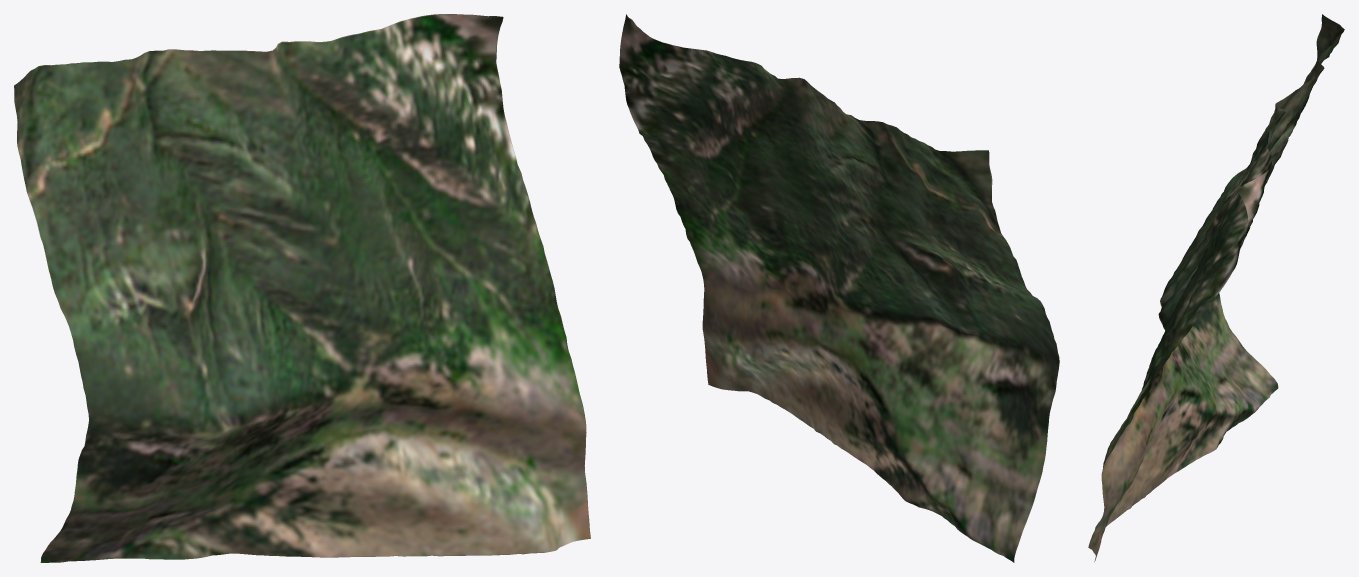
File: ground_far_03_01.obj
3 renders of one model, left to right at view 1: azimuth 30°, elevation 25°; view 2: azimuth 150°, elevation 25°; view 3: azimuth 270°, elevation 25°, orthographic. The views are drawn at different scales.
Parts seen in each view (by area): view 1: ground_far_03_01; view 2: ground_far_03_01; view 3: ground_far_03_01.
Part boxes in pixels (x1,y1,x2,y2): ground_far_03_01: [14, 14, 590, 562]; ground_far_03_01: [619, 14, 1059, 562]; ground_far_03_01: [1088, 14, 1344, 561].
Size of the model in its own units: 2000 by 2000 by 1241.
Materials: 1 (1 with a texture image).
